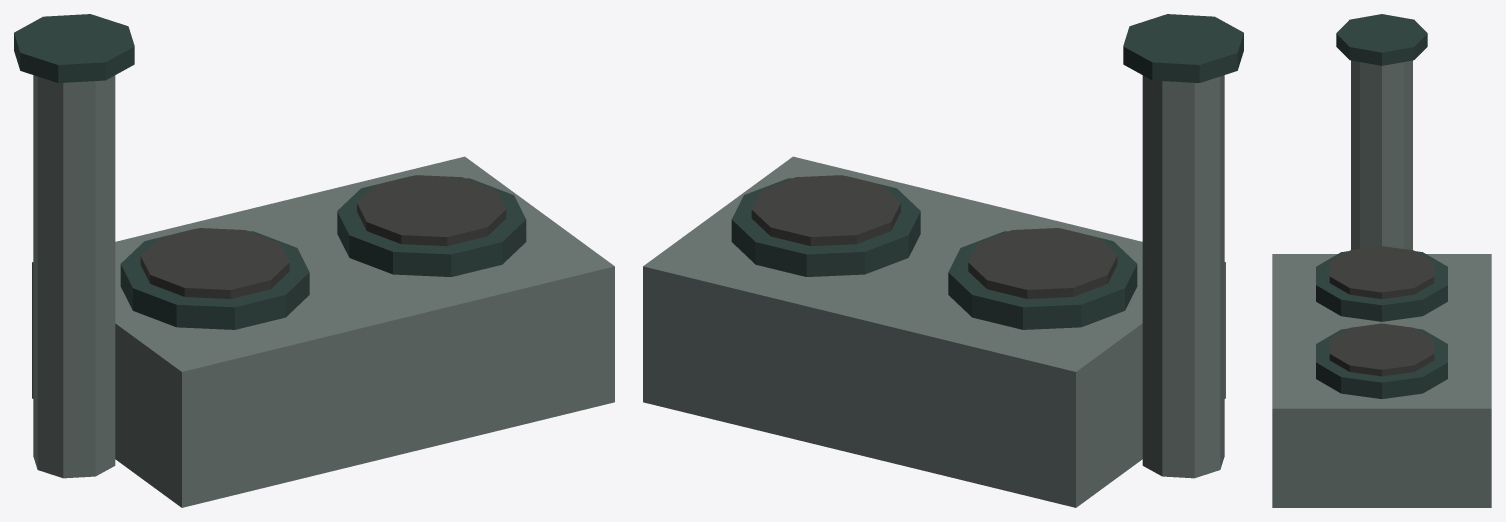
File: VentilationBank.obj
3 renders of one model, left to right at view 1: azimuth 30°, elevation 25°; view 2: azimuth 150°, elevation 25°; view 3: azimuth 270°, elevation 25°, orthographic. The views are drawn at different scales.
Parts seen in each view (by area): view 1: VentilationBank; view 2: VentilationBank; view 3: VentilationBank.
Boxes of the visible parts, box(x1,y1,x2,y2) form: VentilationBank: box(14, 14, 614, 507); VentilationBank: box(643, 14, 1243, 507); VentilationBank: box(1272, 14, 1491, 507).
Bounding box in the file's own units: 2.4 × 1.86 × 1.2.
1 material, 1 textured.
